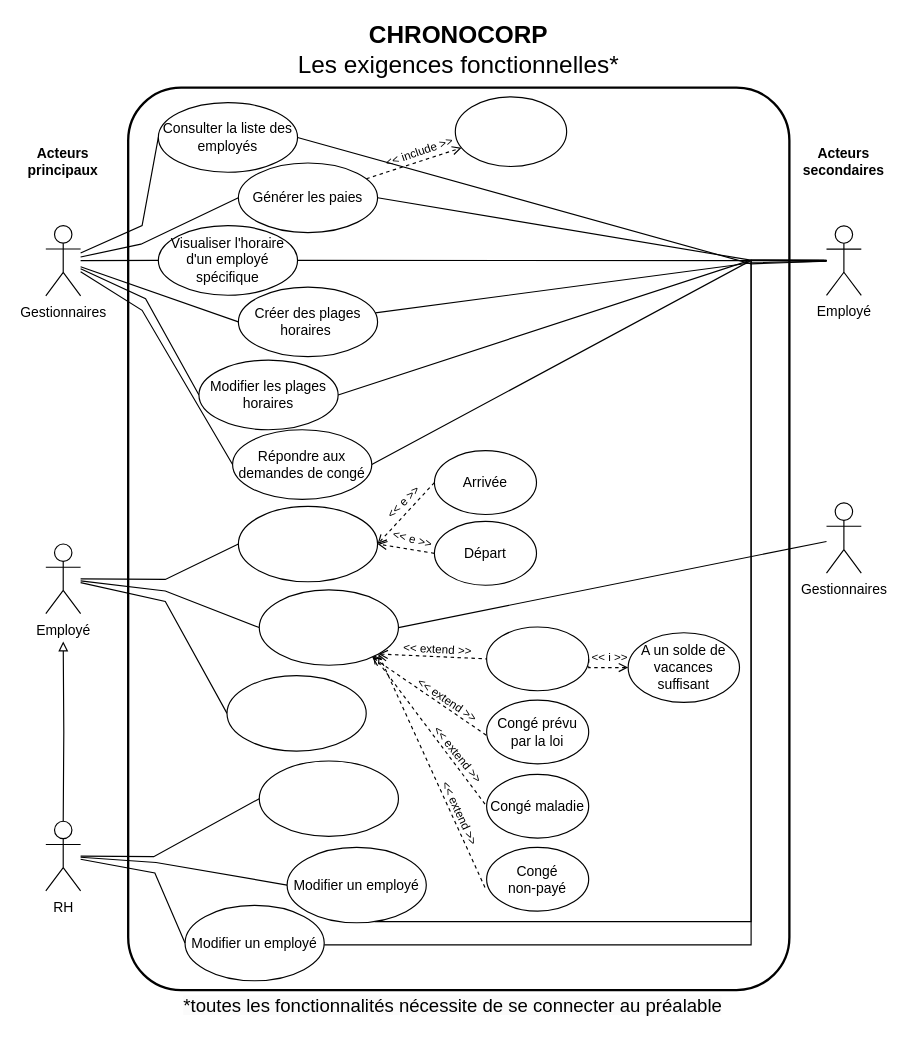
The diagram is 906 pixels wide and 1037 high, and some of its shapes have lost their labels. The box of each missing label's shape, as (x1, y1, x2, y2) in pixels:
Ajouter les nouveaux employés dans le système: (258, 760, 398, 836)
Consulter les bulletins de paie: (226, 675, 366, 751)
Pointer l'heure: (237, 505, 378, 582)
Poser une demande de congé: (258, 589, 398, 665)
Vacances: (485, 626, 589, 691)
Valider les pointages des employés: (454, 96, 567, 166)
